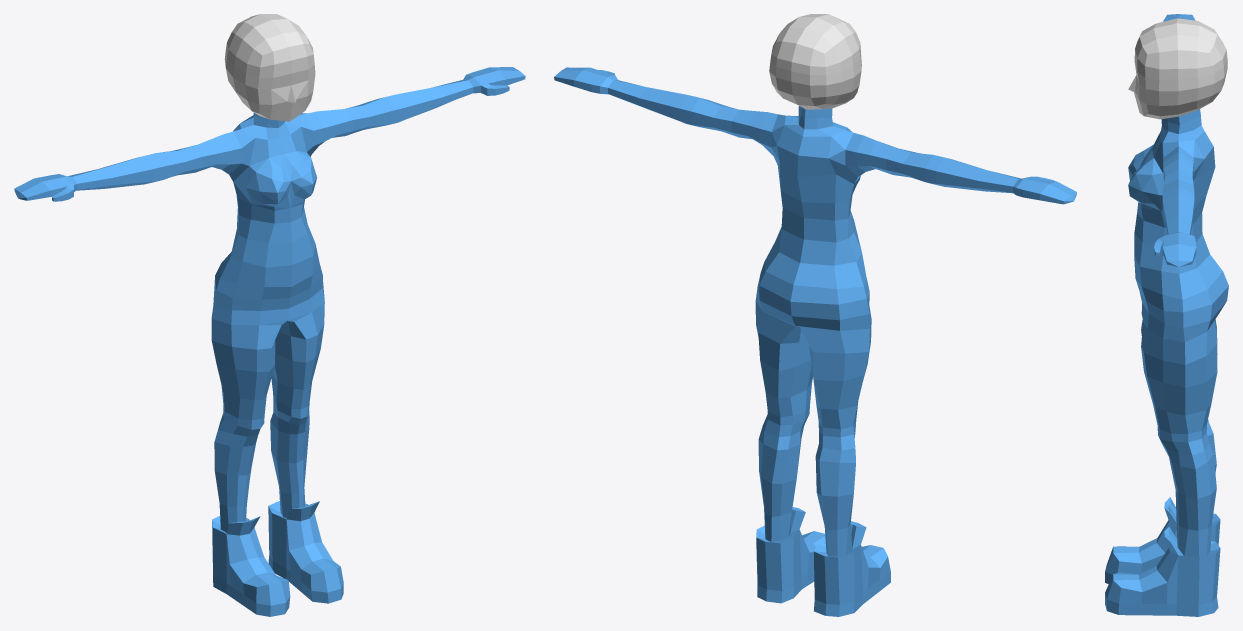
The model's file is slime_girlFBX.fbx.
The picture shows the model from 3 angles, left to right: view 1: azimuth 30°, elevation 25°; view 2: azimuth 150°, elevation 25°; view 3: azimuth 270°, elevation 25°; orthographic projection. The views are drawn at different scales.
Parts seen in each view (by area): view 1: Cylinder, Cube; view 2: Cylinder, Cube; view 3: Cylinder, Cube.
Boxes of the visible parts, bbox=[...] form: Cylinder: bbox=[14, 67, 525, 616]; Cube: bbox=[224, 14, 315, 121]; Cylinder: bbox=[554, 67, 1076, 616]; Cube: bbox=[769, 14, 861, 109]; Cylinder: bbox=[1105, 14, 1228, 616]; Cube: bbox=[1128, 18, 1227, 119].
Size of the model in its own units: 235 by 250 by 49.28.
1 material, 1 textured.
